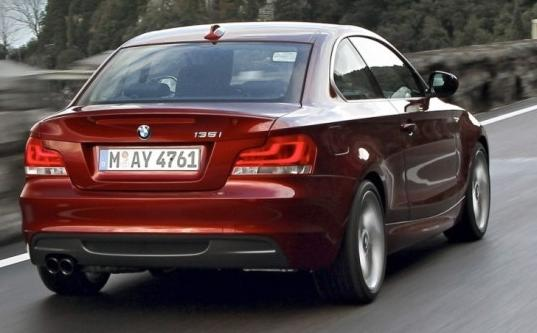back_view: (20, 111, 340, 275)
backlight: (224, 132, 325, 182)
side_glass: (331, 32, 433, 102)
